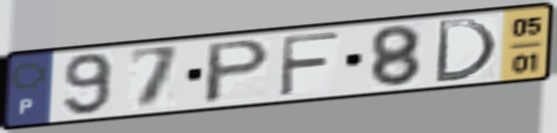7: (127, 46, 182, 113)
8: (366, 21, 425, 90)
9: (61, 51, 117, 118)
D: (431, 17, 501, 85)
F: (275, 30, 343, 99)
P: (199, 37, 274, 107)
